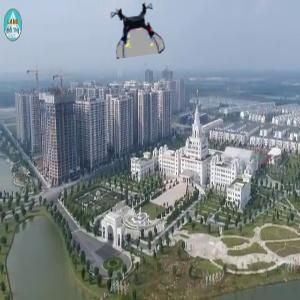drone: (110, 3, 165, 58)
